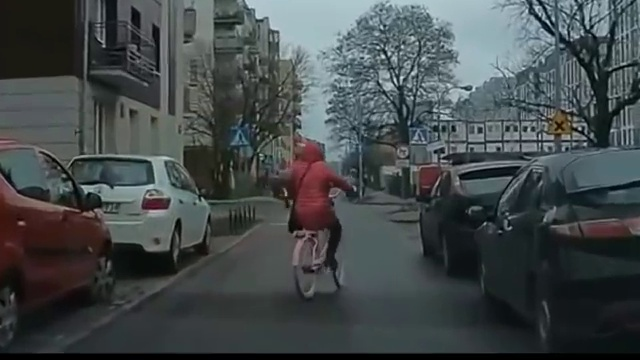cyclist_back: (285, 138, 352, 295)
